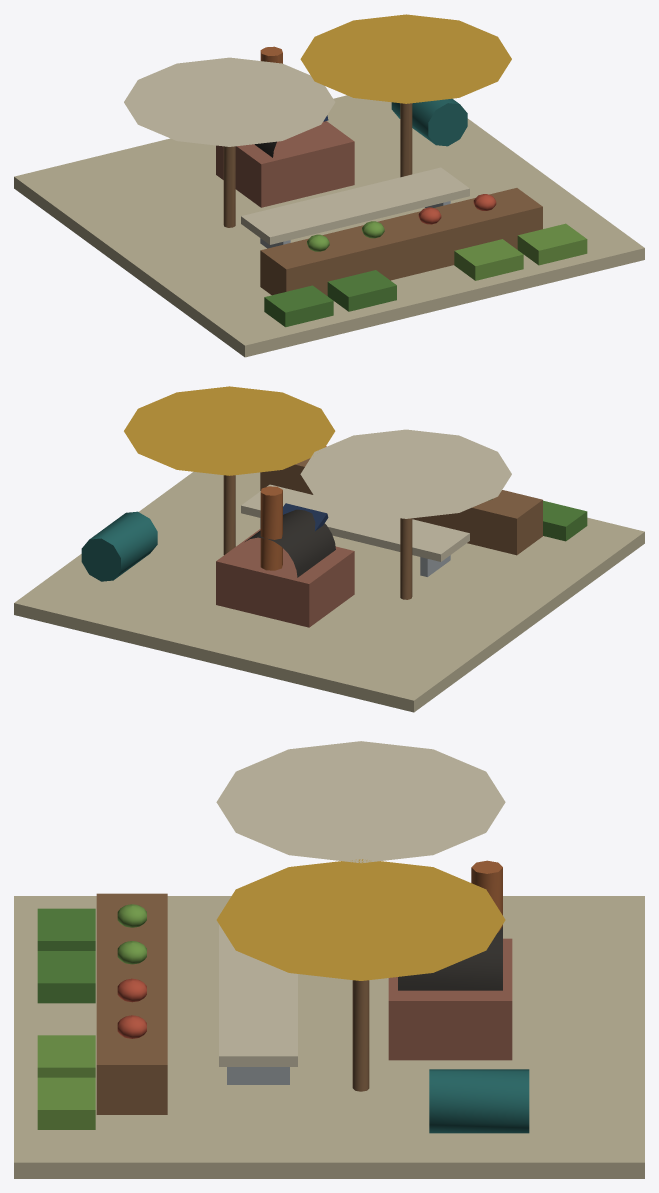
The model's file is b14-market-kitchen-v2-lod0.glb.
3 renders of one model, top to bottom at view 1: azimuth 30°, elevation 25°; view 2: azimuth 150°, elevation 25°; view 3: azimuth 270°, elevation 25°, orthographic. The views are drawn at different scales.
Parts seen in each view (by area): view 1: MESH_B14_MARKET_KITCHEN; view 2: MESH_B14_MARKET_KITCHEN; view 3: MESH_B14_MARKET_KITCHEN.
Boxes of the visible parts, left/top/right/bottom form: MESH_B14_MARKET_KITCHEN: left=14, top=14, right=644, bottom=357; MESH_B14_MARKET_KITCHEN: left=14, top=386, right=644, bottom=712; MESH_B14_MARKET_KITCHEN: left=14, top=741, right=644, bottom=1178.
Size of the model in its own units: 12 by 3.87 by 12.
